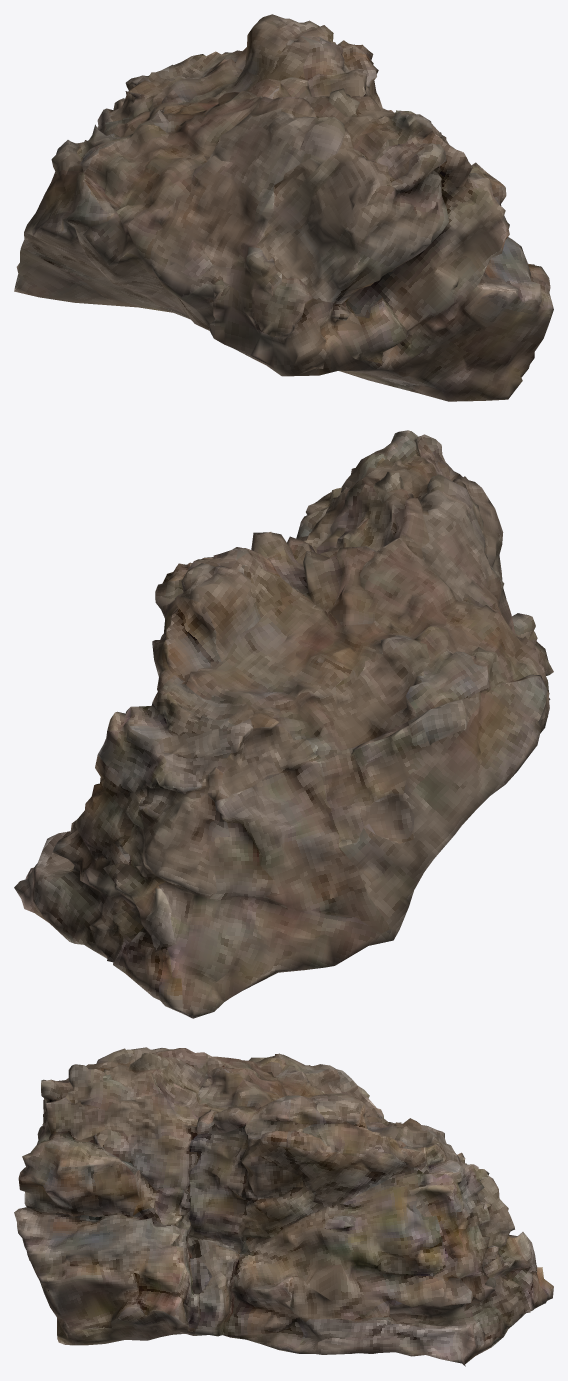
Rendered from grounded-boulder-quiet.glb.
The picture shows the model from 3 angles, top to bottom: view 1: azimuth 30°, elevation 25°; view 2: azimuth 150°, elevation 25°; view 3: azimuth 270°, elevation 25°; orthographic projection. The views are drawn at different scales.
Visible parts, largest first — view 1: grounded-boulder-quiet runtime mesh; view 2: grounded-boulder-quiet runtime mesh; view 3: grounded-boulder-quiet runtime mesh.
Part boxes in pixels (x1,y1,x2,y2): grounded-boulder-quiet runtime mesh: (14,14,553,401); grounded-boulder-quiet runtime mesh: (14,430,553,1018); grounded-boulder-quiet runtime mesh: (14,1047,553,1366).
Size of the model in its own units: 1.25 by 0.9876 by 1.8.
Materials: 1 (1 with a texture image).
